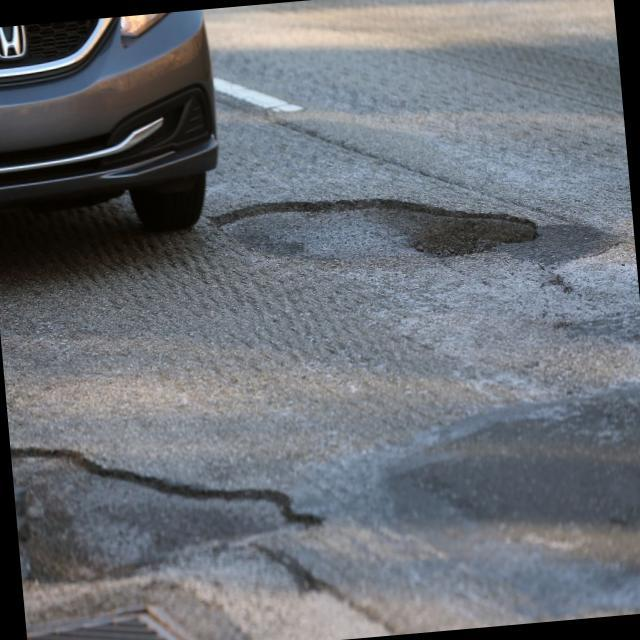Pothole: (8, 402, 316, 596), (206, 165, 548, 288)
